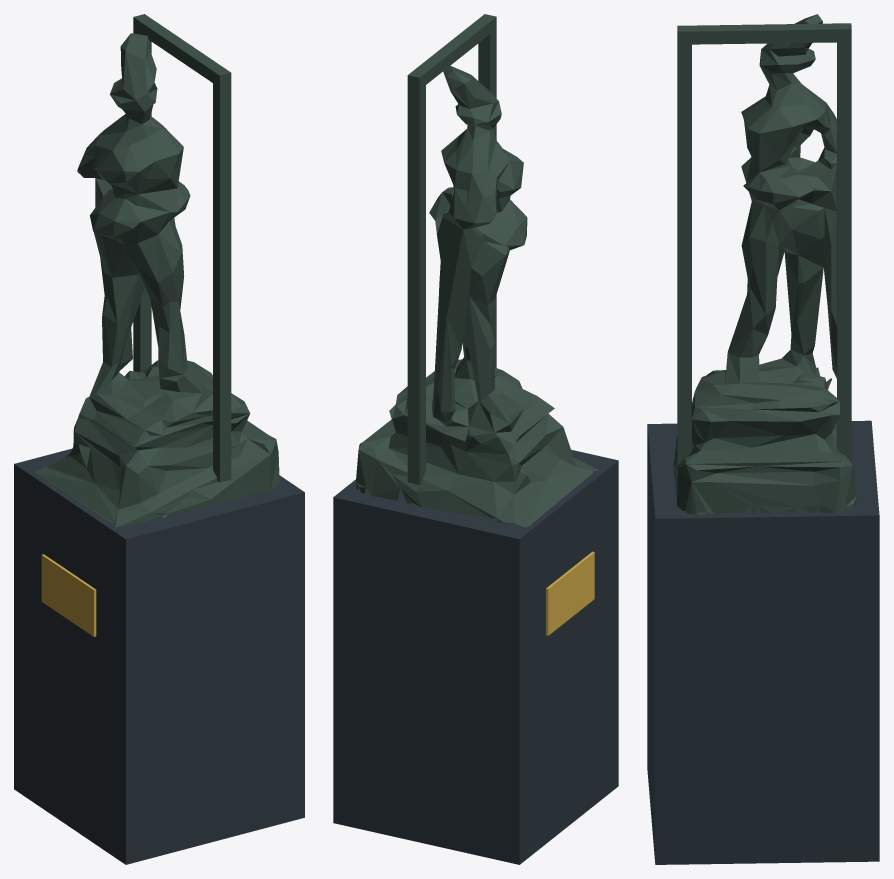
The model's file is belle.lod1.glb.
3 views of the same model, side by side, from view 1: azimuth 30°, elevation 25°; view 2: azimuth 150°, elevation 25°; view 3: azimuth 270°, elevation 25° (orthographic). The views are drawn at different scales.
Parts seen in each view (by area): view 1: belle; view 2: belle; view 3: belle.
Boxes of the visible parts, x1,y1,x2,y2 form: belle: [14, 14, 304, 864]; belle: [333, 14, 618, 864]; belle: [647, 14, 879, 864].
Size of the model in its own units: 0.4879 by 1.85 by 0.4861.
